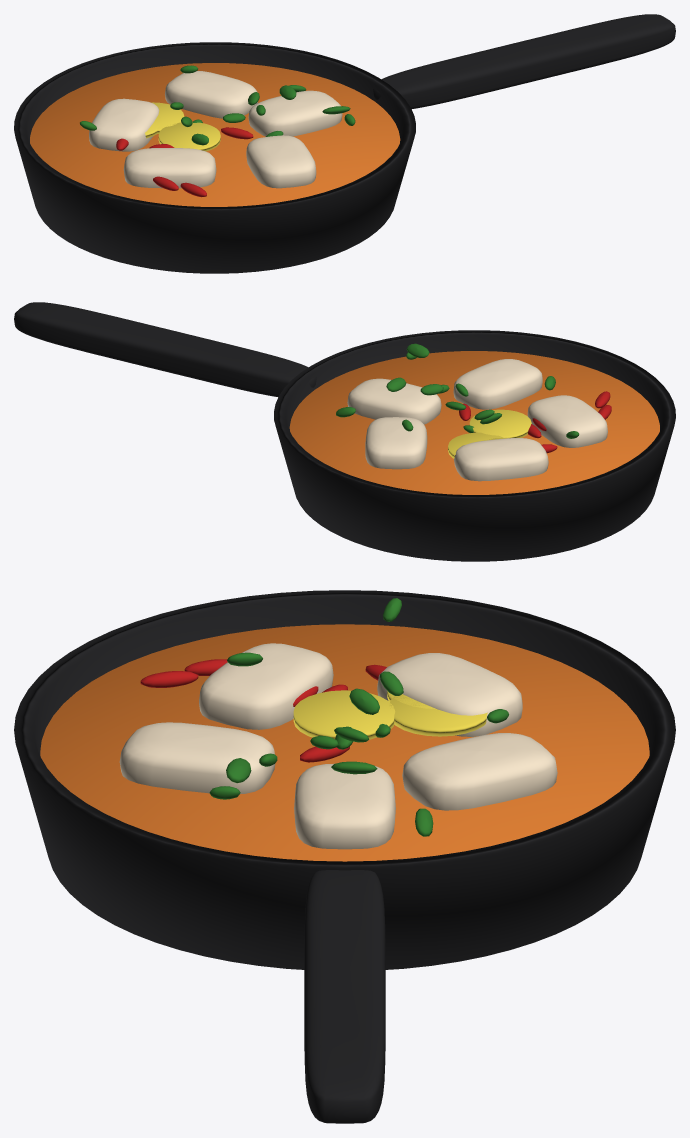
File: moqueca-athina.glb
The picture shows the model from 3 angles, top to bottom: view 1: azimuth 30°, elevation 25°; view 2: azimuth 150°, elevation 25°; view 3: azimuth 270°, elevation 25°; orthographic projection. The views are drawn at different scales.
Parts seen in each view (by area): view 1: moqueca-athina; view 2: moqueca-athina; view 3: moqueca-athina.
Part boxes in pixels (bbox=[...]): moqueca-athina: bbox=[14, 14, 675, 273]; moqueca-athina: bbox=[14, 302, 675, 561]; moqueca-athina: bbox=[14, 590, 675, 1123].
Size of the model in its own units: 0.47 by 0.0681 by 0.26.
